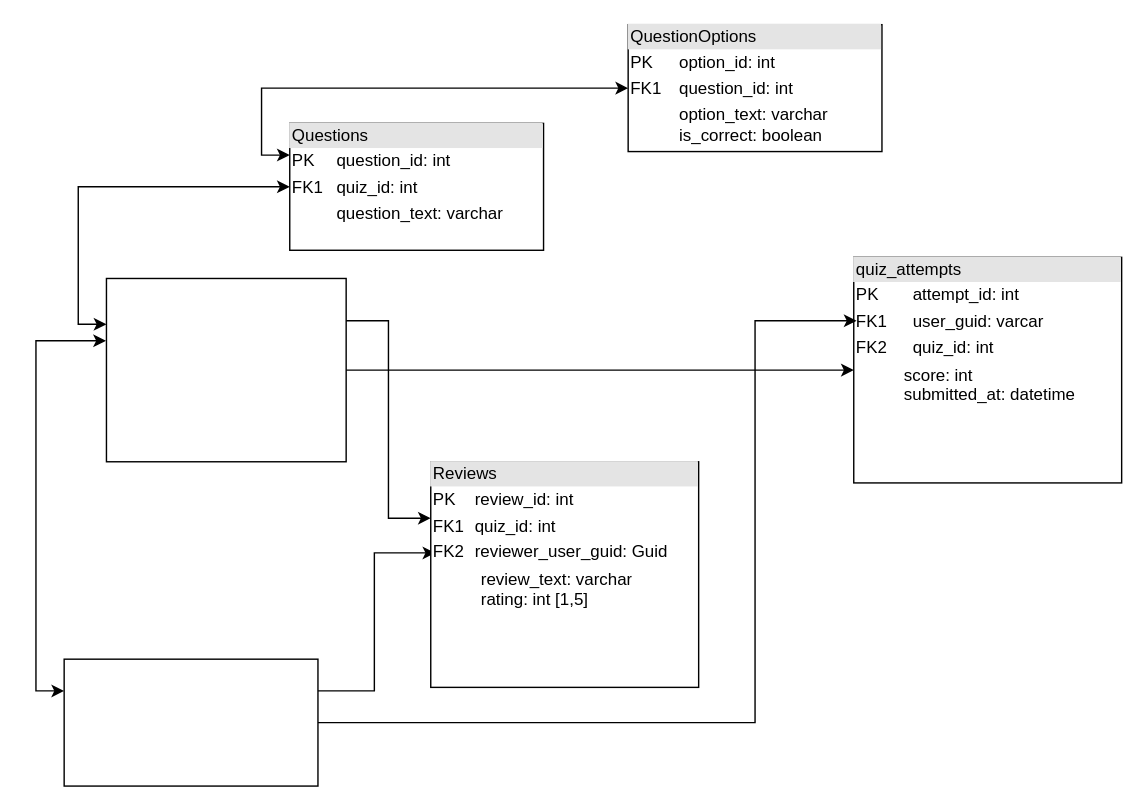
This 1146x811 diagram has some shape labels left out. The shapes that lost their labels are listed below. From the top down, each one's centre as x and y in pixels, then its label:
the point at 225,369: Quizzes PK quiz_id: int FK1 creator_user_guid: guid quiz_name: varchar
the point at 190,722: Users PK user_guid: Guid username: varchar password_hash: varchar email: varchar
